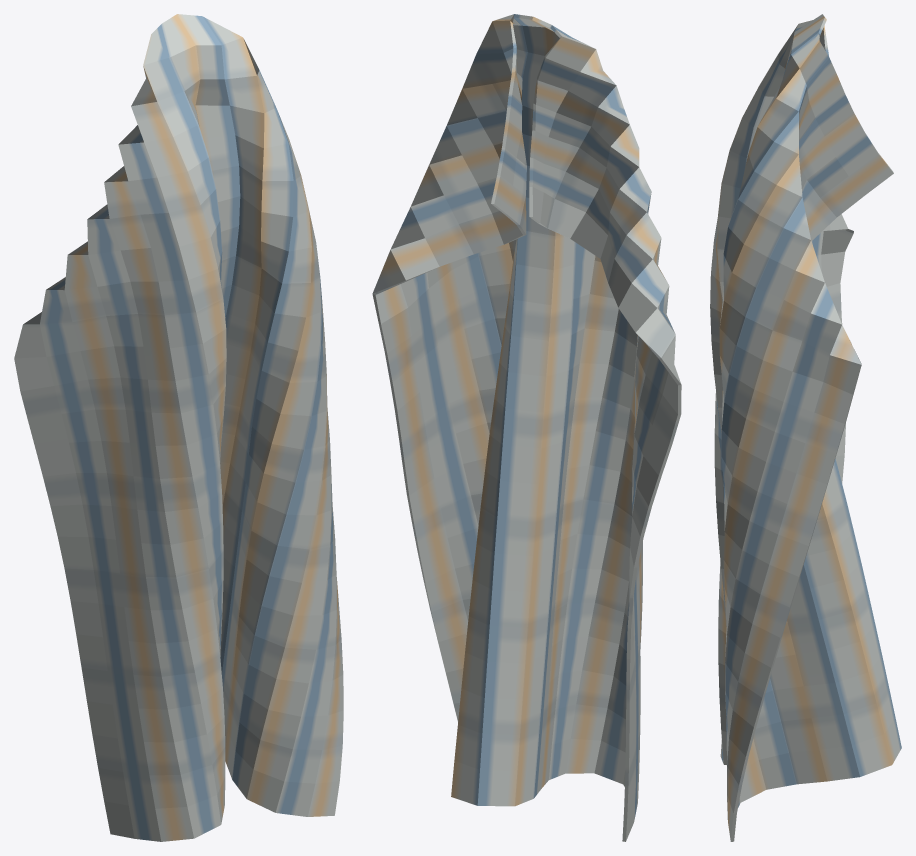
File: Int_Towel01.fbx
3 views of the same model, side by side, from view 1: azimuth 30°, elevation 25°; view 2: azimuth 150°, elevation 25°; view 3: azimuth 270°, elevation 25° (orthographic). The views are drawn at different scales.
Parts seen in each view (by area): view 1: Int_Towel01; view 2: Int_Towel01; view 3: Int_Towel01.
Boxes of the visible parts, left/top/right/bottom form: Int_Towel01: left=14, top=14, right=343, bottom=841; Int_Towel01: left=372, top=14, right=681, bottom=841; Int_Towel01: left=710, top=14, right=901, bottom=841.
Size of what is drawn, in the model's own units: 38.67 by 22.63 by 101.
